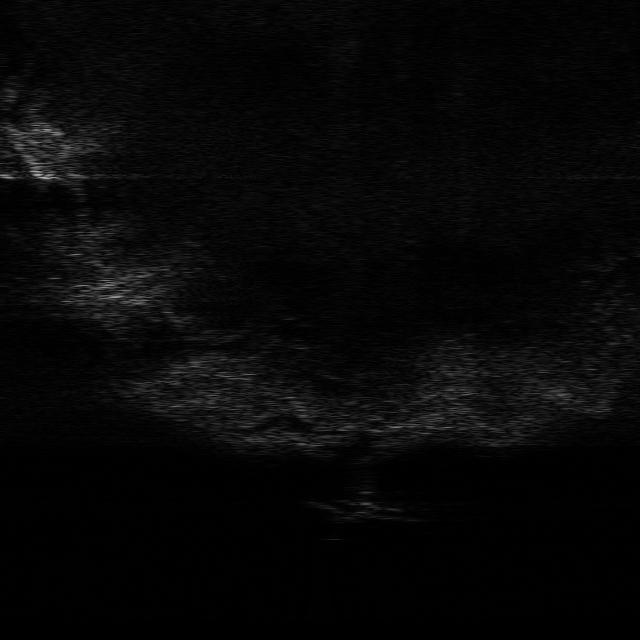plane: (305, 498, 416, 523)
